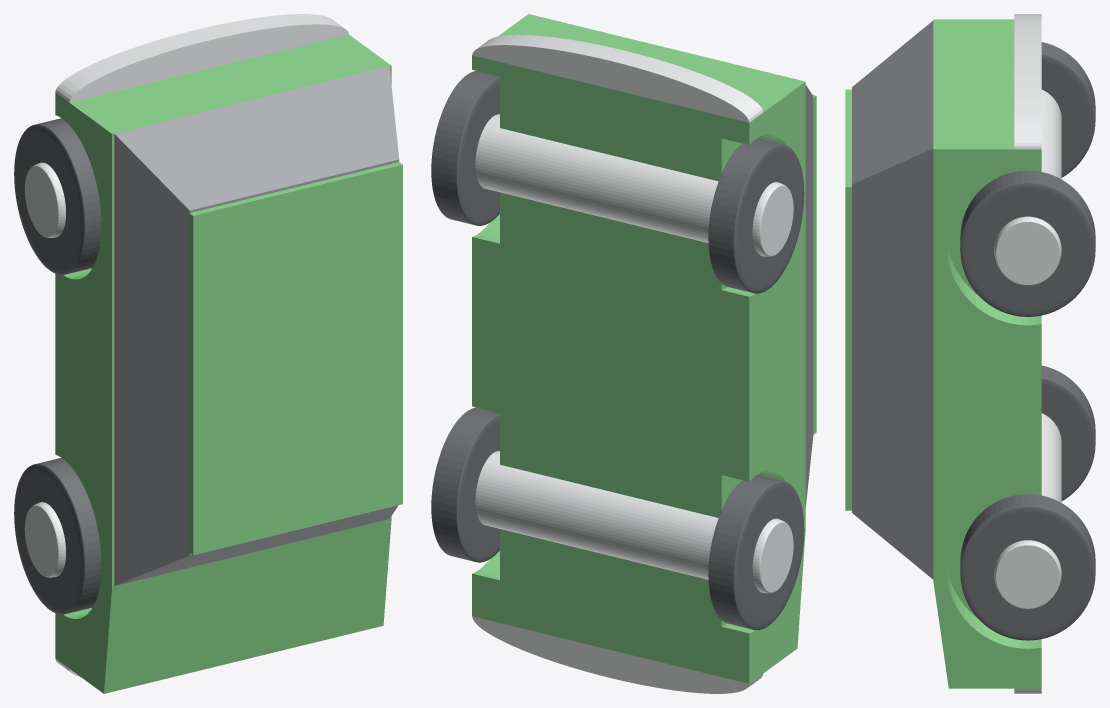
The model's file is car-by-username12-8Zit7wVngW.glb.
3 renders of one model, left to right at view 1: azimuth 30°, elevation 25°; view 2: azimuth 150°, elevation 25°; view 3: azimuth 270°, elevation 25°, orthographic. The views are drawn at different scales.
Parts seen in each view (by area): view 1: group_0_4634441, group_0_6383466, group_0_2829873, group_0_14541540; view 2: group_0_4634441, group_0_14541540, group_0_2829873, group_0_6383466; view 3: group_0_4634441, group_0_6383466, group_0_2829873, group_0_14541540.
Part boxes in pixels (bbox=[...]): group_0_4634441: bbox=[55, 34, 402, 693]; group_0_6383466: bbox=[114, 66, 399, 585]; group_0_2829873: bbox=[14, 118, 101, 614]; group_0_14541540: bbox=[24, 14, 348, 676]; group_0_4634441: bbox=[472, 14, 816, 683]; group_0_14541540: bbox=[472, 34, 793, 693]; group_0_2829873: bbox=[431, 70, 804, 630]; group_0_6383466: bbox=[805, 85, 813, 507]; group_0_4634441: bbox=[845, 19, 1041, 688]; group_0_6383466: bbox=[852, 20, 933, 579]; group_0_2829873: bbox=[960, 42, 1095, 640]; group_0_14541540: bbox=[994, 14, 1061, 693].
Size of the model in its own units: 36.75 by 68 by 26.
